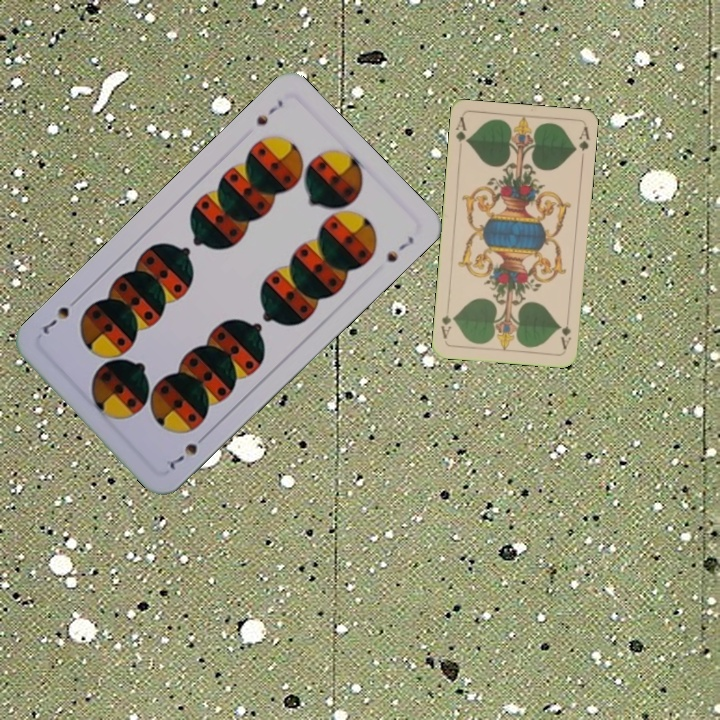GA: (452, 114, 471, 145), (557, 321, 574, 352)
S7: (165, 429, 211, 472), (251, 95, 286, 128)
